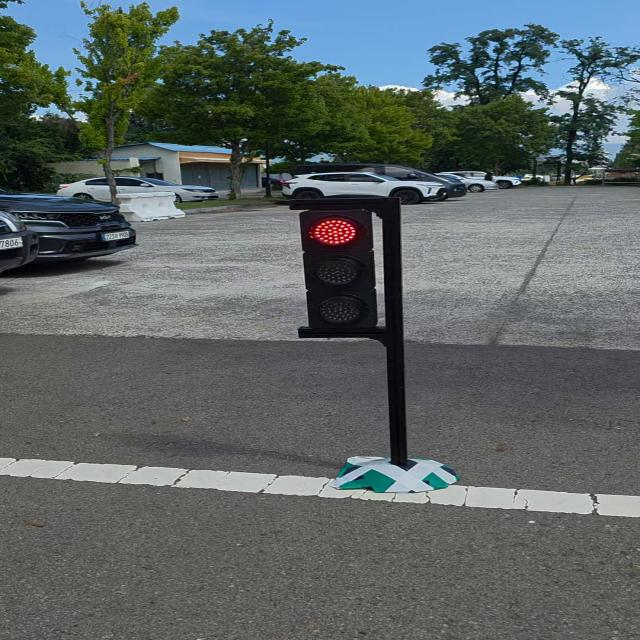red: (292, 200, 408, 344)
